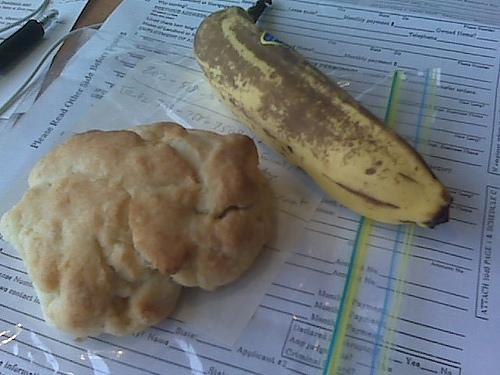banana: (194, 0, 452, 229)
